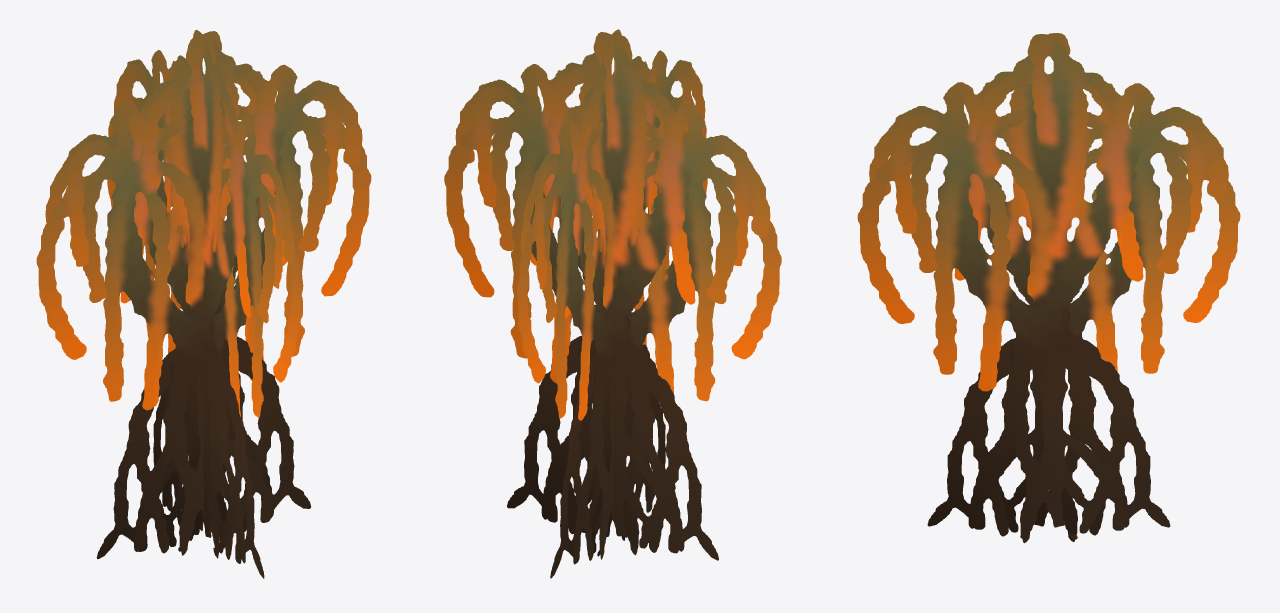
Rendered from HP3_weed082 1.fbx.
3 renders of one model, left to right at view 1: azimuth 30°, elevation 25°; view 2: azimuth 150°, elevation 25°; view 3: azimuth 270°, elevation 25°, orthographic.
Parts seen in each view (by area): view 1: HP3_weed082; view 2: HP3_weed082; view 3: HP3_weed082.
Boxes of the visible parts, bbox=[...] form: HP3_weed082: bbox=[36, 29, 371, 578]; HP3_weed082: bbox=[444, 29, 781, 578]; HP3_weed082: bbox=[857, 33, 1240, 543].
Size of the model in its own units: 7.17 by 10.09 by 7.17.
